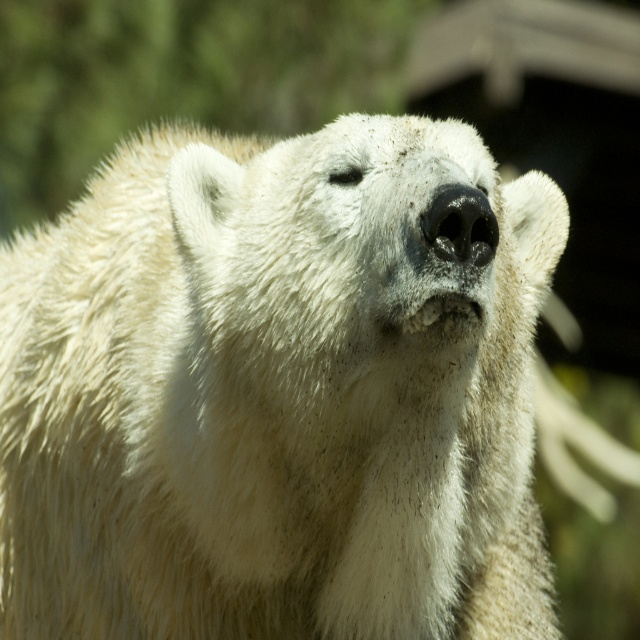Polar bear: (0, 103, 571, 639)
